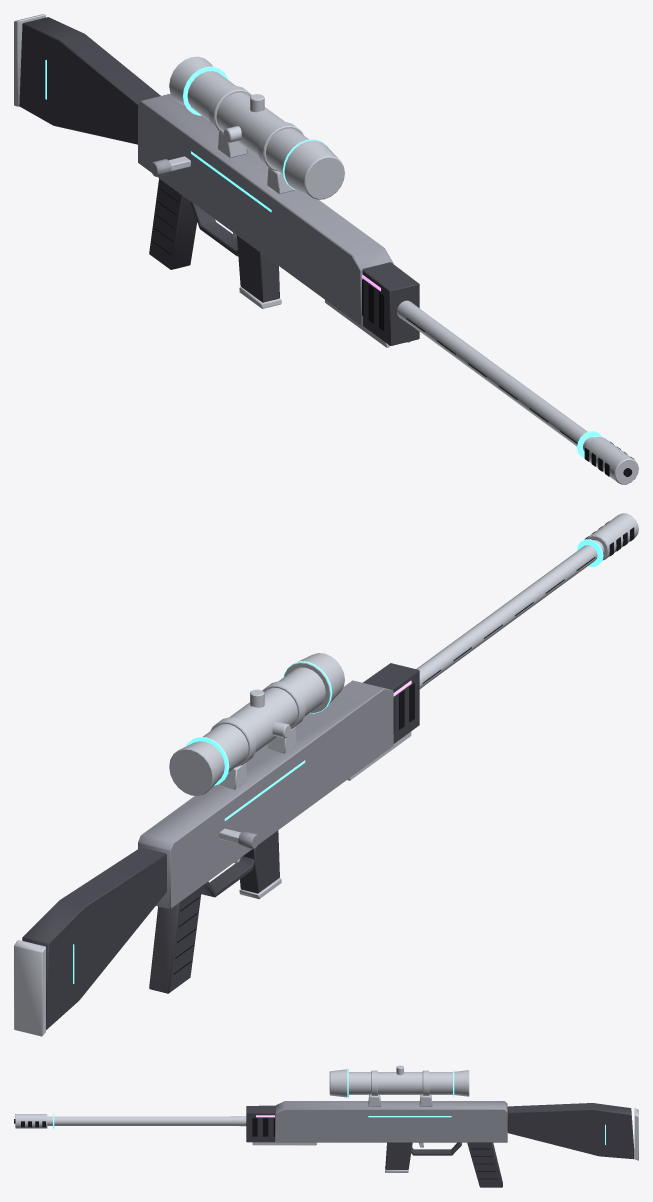
Rendered from w_sniper.glb.
3 renders of one model, top to bottom at view 1: azimuth 30°, elevation 25°; view 2: azimuth 150°, elevation 25°; view 3: azimuth 270°, elevation 25°, orthographic. The views are drawn at different scales.
Visible parts, largest first — view 1: body, grip, metal, grip.mag, dark, acc; view 2: body, metal, grip, grip.mag, acc, dark; view 3: body, grip, metal, grip.mag, dark, acc.
Part boxes in pixels (x1=…): body: x1=138, y1=93, x2=393, y2=326; grip: x1=19, y1=17, x2=419, y2=345; metal: x1=14, y1=14, x2=638, y2=484; grip.mag: x1=237, y1=235, x2=279, y2=302; dark: x1=152, y1=188, x2=634, y2=476; acc: x1=45, y1=60, x2=601, y2=457; body: x1=138, y1=680, x2=393, y2=909; metal: x1=14, y1=513, x2=638, y2=1036; grip: x1=22, y1=663, x2=419, y2=1029; grip.mag: x1=240, y1=830, x2=279, y2=893; acc: x1=73, y1=539, x2=603, y2=983; dark: x1=173, y1=521, x2=634, y2=974; body: x1=275, y1=1101, x2=507, y2=1142; grip: x1=246, y1=1103, x2=634, y2=1187; metal: x1=15, y1=1065, x2=638, y2=1160; grip.mag: x1=385, y1=1142, x2=412, y2=1169; dark: x1=14, y1=1118, x2=497, y2=1179; acc: x1=53, y1=1069, x2=605, y2=1144.
Size of the model in its own units: 0.1402 by 0.407 by 1.95.
